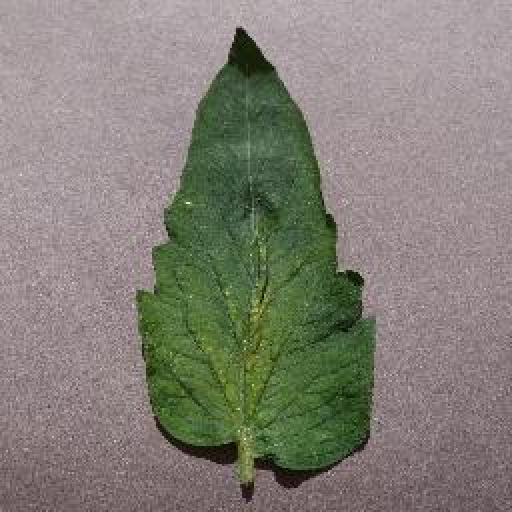Spider Mites: (134, 24, 374, 473)
